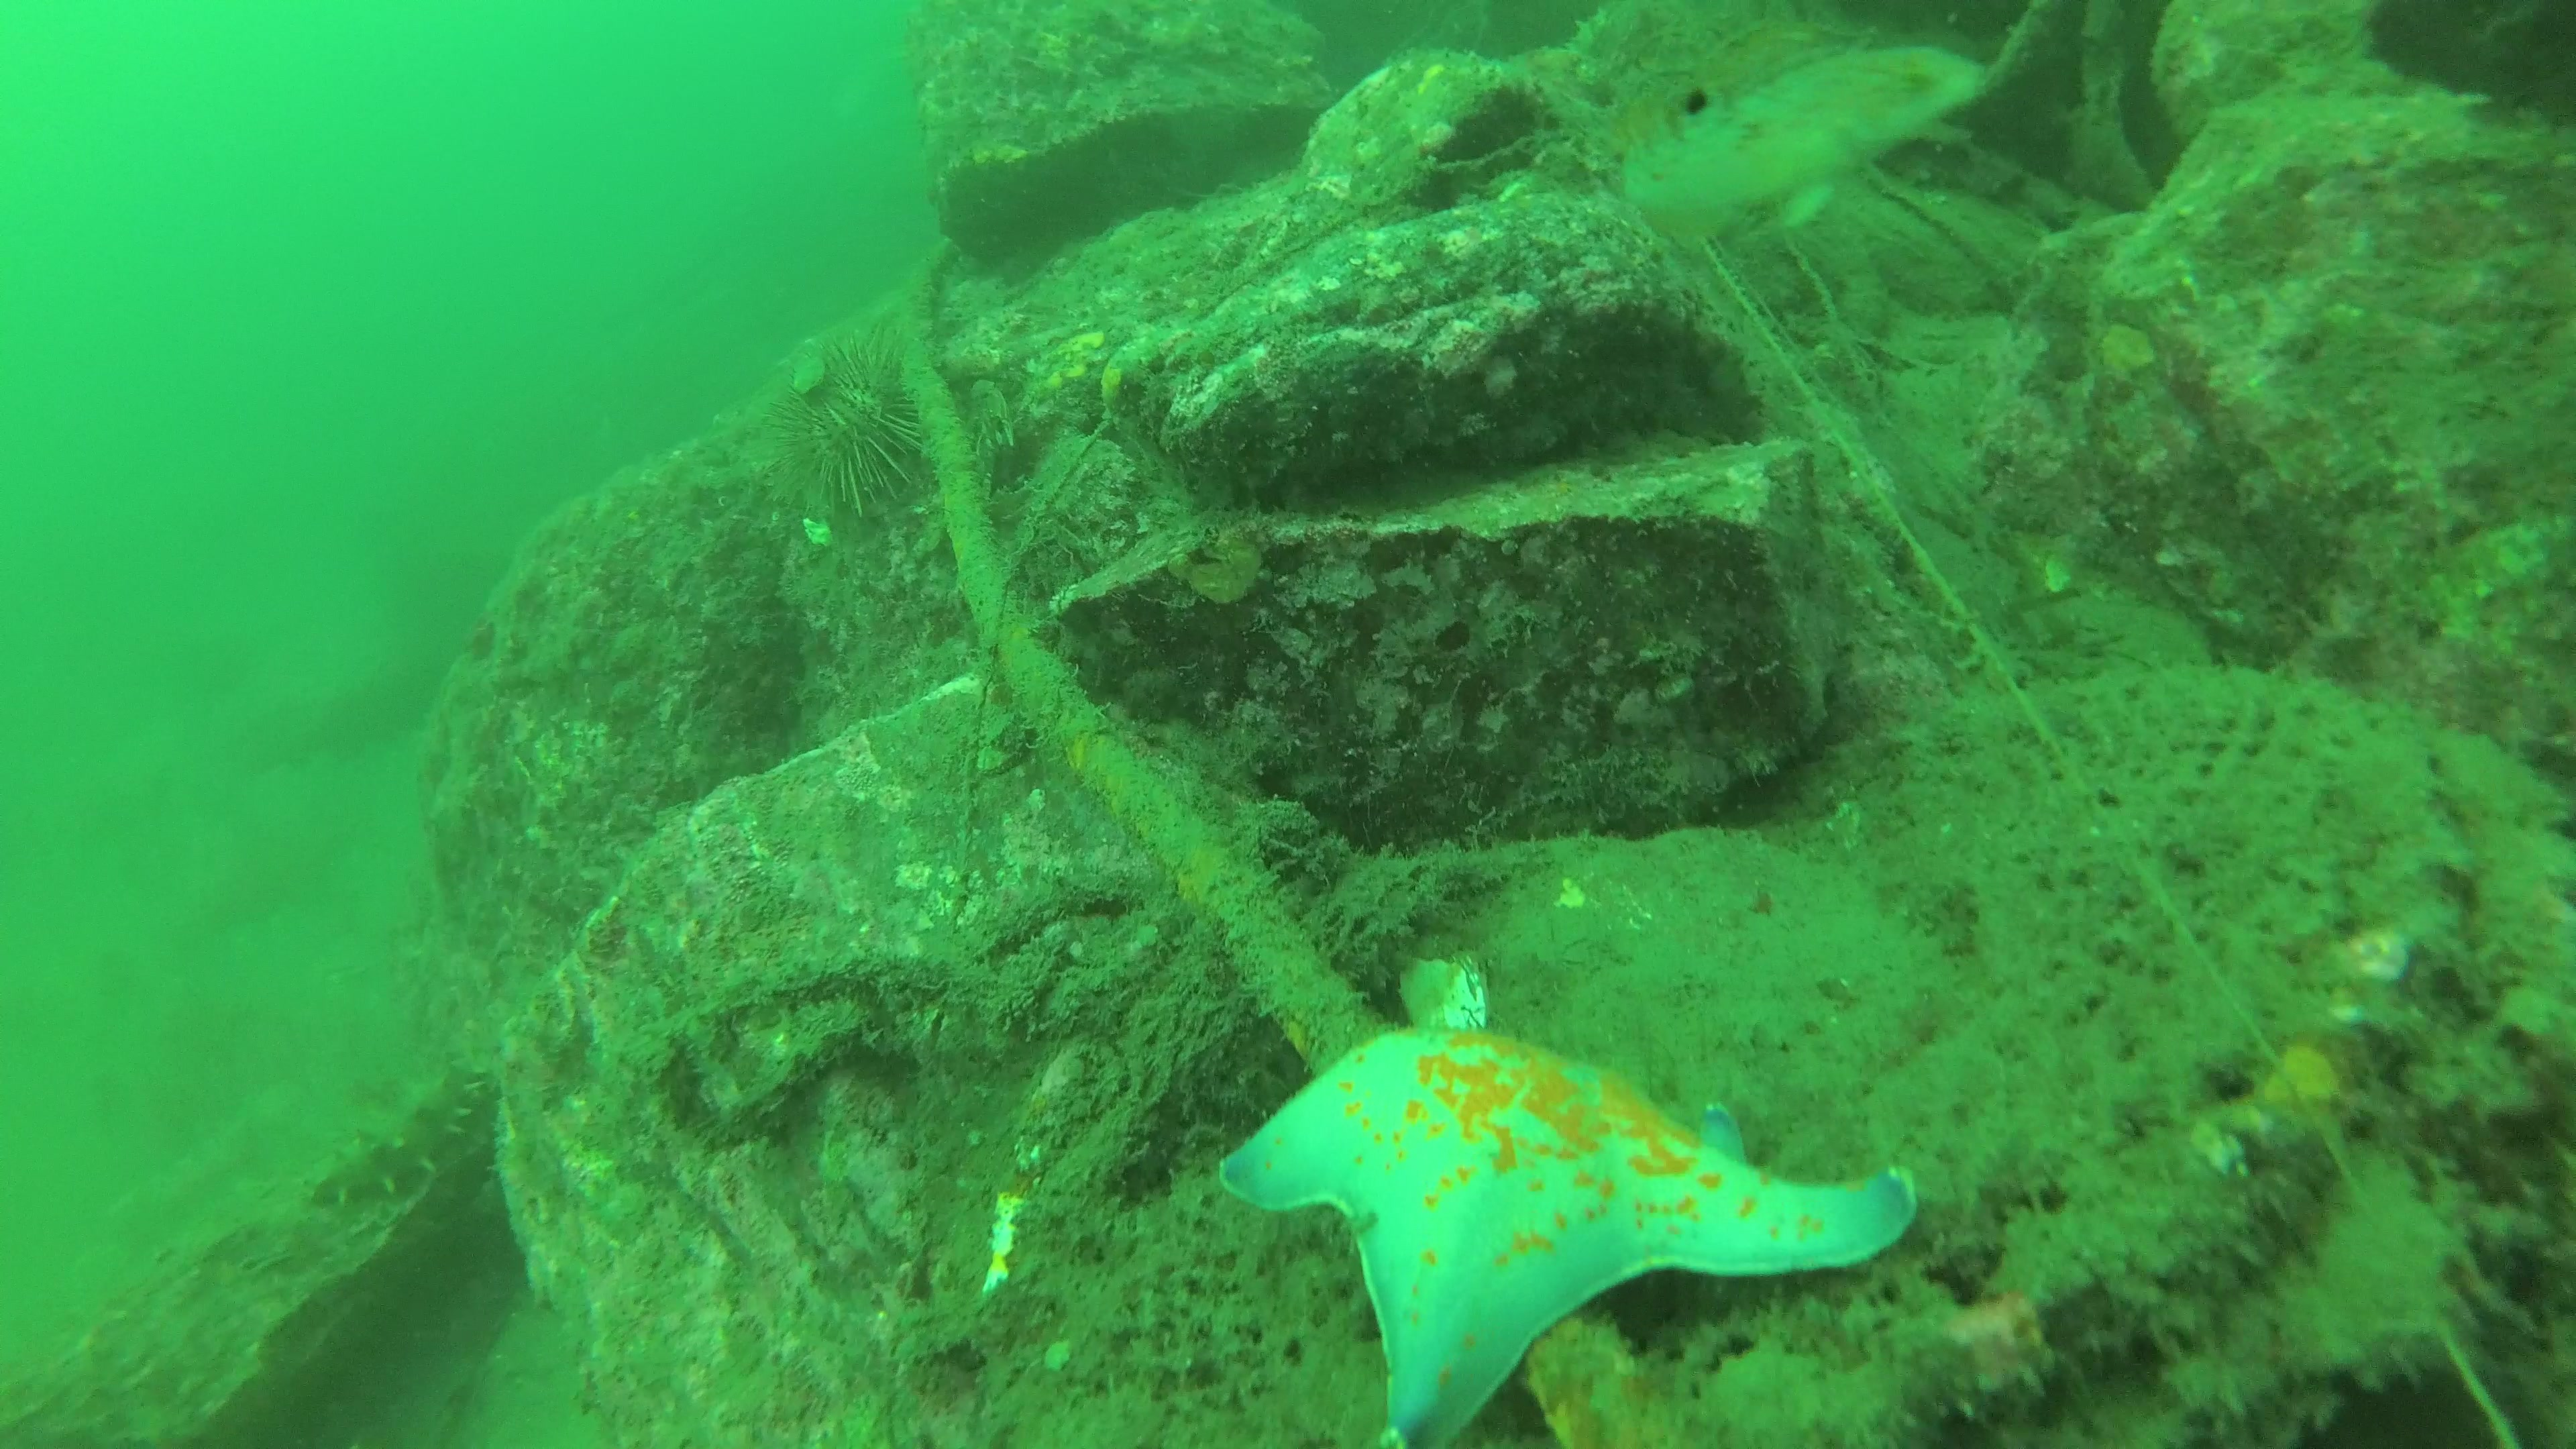echinus: (761, 326, 952, 511)
holothurian: (271, 1056, 487, 1208)
starfish: (1219, 1023, 1920, 1440)
